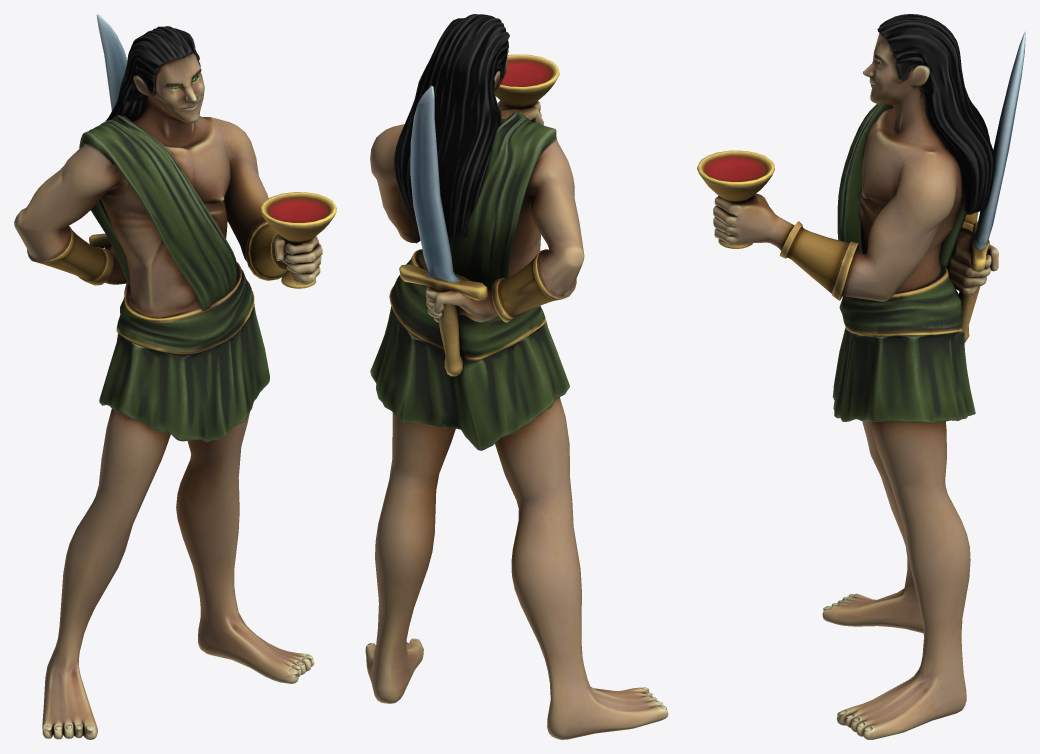
The model's file is MZ4250 - Yuan-Ti Pureblood (Male).glb.
The picture shows the model from 3 angles, left to right: view 1: azimuth 30°, elevation 25°; view 2: azimuth 150°, elevation 25°; view 3: azimuth 270°, elevation 25°; orthographic projection. The views are drawn at different scales.
Parts seen in each view (by area): view 1: body_low.001, cup_low.001, blade_low.001; view 2: body_low.001, blade_low.001, cup_low.001; view 3: body_low.001, blade_low.001, cup_low.001.
Part boxes in pixels (x1,y1,x2,y2): body_low.001: [14, 26, 322, 739]; cup_low.001: [260, 192, 336, 288]; blade_low.001: [89, 14, 127, 247]; body_low.001: [365, 14, 668, 739]; blade_low.001: [399, 85, 488, 376]; cup_low.001: [494, 54, 559, 109]; body_low.001: [713, 14, 998, 739]; blade_low.001: [959, 31, 1025, 342]; cup_low.001: [697, 150, 774, 248].
Size of the model in its own units: 2.94 by 6.59 by 2.96.
1 material, 1 textured.
